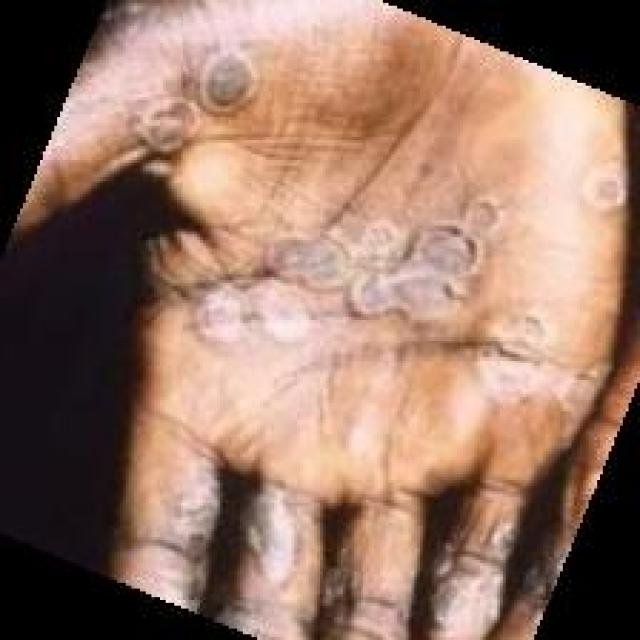monkeypox: (89, 33, 581, 640)
